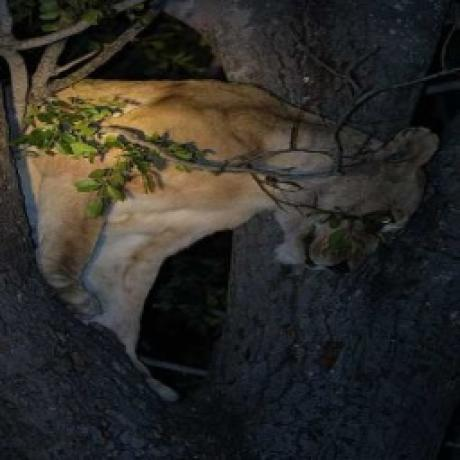Lion: (0, 72, 442, 401)
